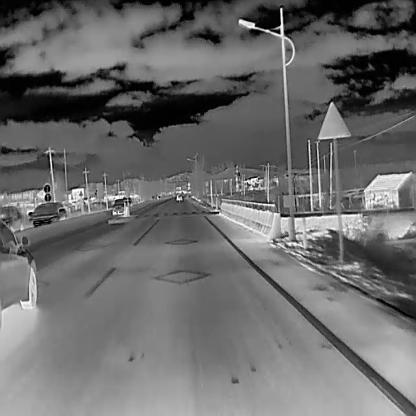car: (0, 217, 38, 310), (28, 200, 68, 228), (0, 205, 23, 231), (111, 198, 128, 216), (176, 192, 182, 200)
